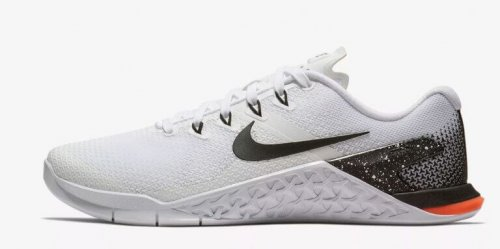nike: (231, 120, 371, 164)
